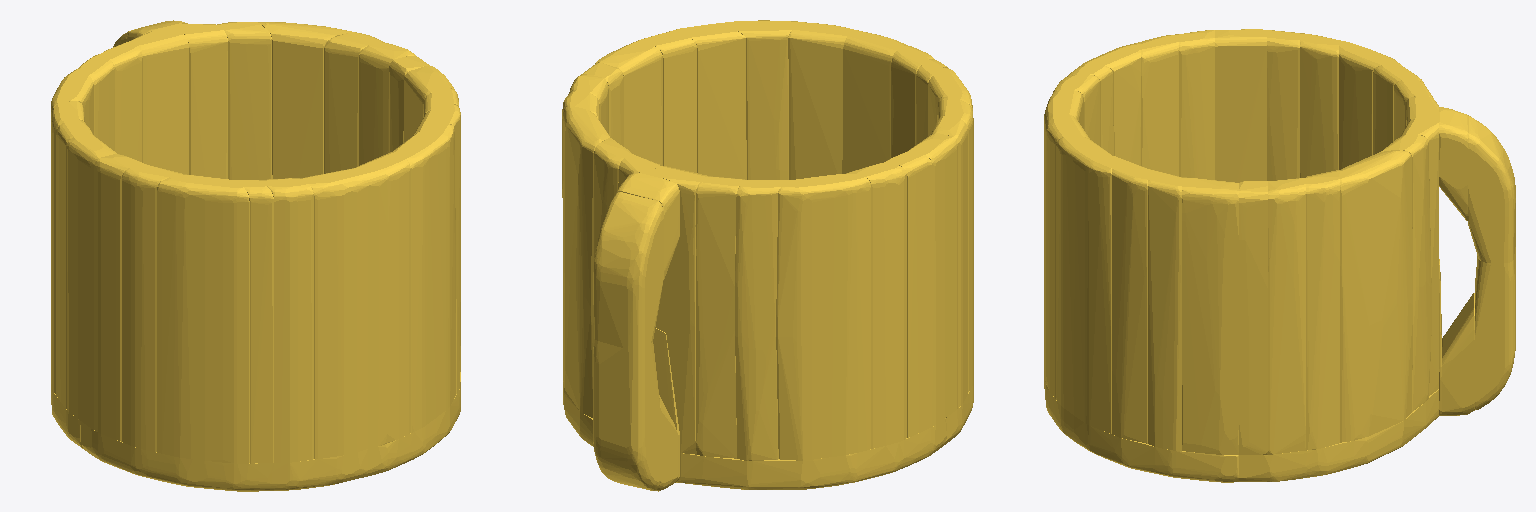
The robot description file, URDF, robot "295.urdf":
<?xml version="1.0" ?>
<robot name="295.urdf">
	<link name="baseLink">
		<inertial>
			<origin rpy="0 0 0" xyz="0 0 0"/>
				<mass value="0.1"/>
				<inertia ixx="6e-5" ixy="0" ixz="0" iyy="6e-5" iyz="0" izz="6e-5"/>
		</inertial>
		<visual>
			<origin rpy="0 0 0" xyz="0 0 0"/>
			<geometry>
				<mesh filename="0_decom_wt.obj" scale="0.84 0.84 0.90"/>
			</geometry>
			<material name="yellow">
				<color rgba="0.98 0.84 0.35 1"/>
			</material>
		</visual>
		<collision>
			<origin rpy="0 0 0" xyz="0 0 0"/>
			<geometry>
				<mesh filename="0_decom_wt.obj" scale="0.84 0.84 0.90"/>
			</geometry>
		</collision>
	</link>
</robot>

--- What the picture shows (computed from the rendered views, not written in the file) ---
The picture shows the robot from 3 angles, left to right: view 1: azimuth 30°, elevation 25°; view 2: azimuth 150°, elevation 25°; view 3: azimuth 270°, elevation 25°; orthographic projection.
Robot: 295.urdf — 1 links, 0 joints (none); root link baseLink; default pose: all joints at 0.
Visible links, largest first — view 1: baseLink; view 2: baseLink; view 3: baseLink.
Boxes of the visible links, <box> form: baseLink: <box>51,20,460,491</box>; baseLink: <box>562,20,973,491</box>; baseLink: <box>1044,29,1515,482</box>.
Bounding box of the posed robot: 0.1071 × 0.1275 × 0.0877 m (x, y, z).
1 mesh visuals loaded from 1 distinct referenced files (1 OBJ).